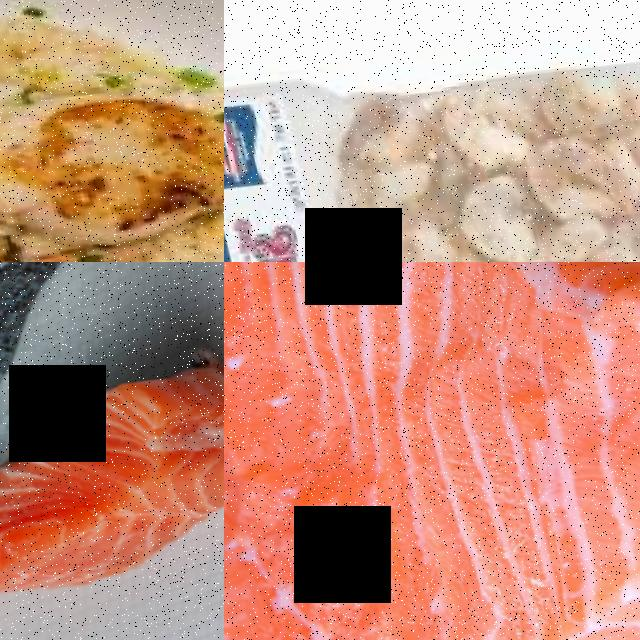salmon: (224, 262, 640, 640), (0, 349, 224, 615), (0, 262, 126, 425)
sea scallops: (0, 76, 224, 254)
